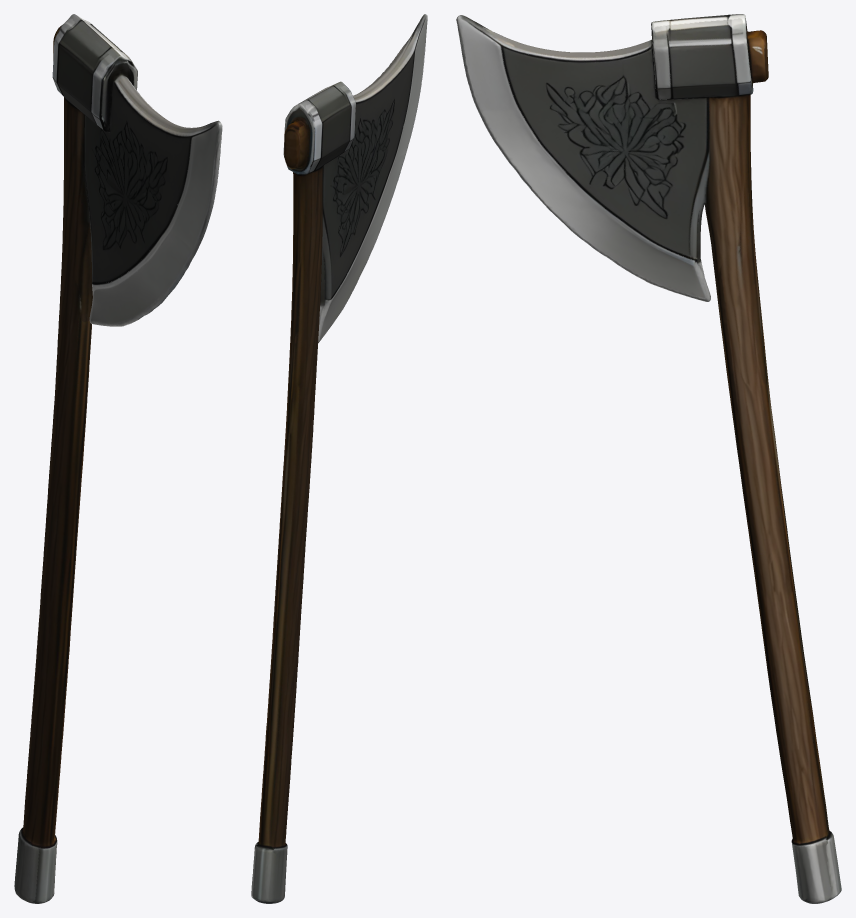
The model's file is _prop.glb.
3 renders of one model, left to right at view 1: azimuth 30°, elevation 25°; view 2: azimuth 150°, elevation 25°; view 3: azimuth 270°, elevation 25°, orthographic. The views are drawn at different scales.
Visible parts, largest first — view 1: tripo_node_942ad73b-d971-4531-b7e7-c09f63a6a15e; view 2: tripo_node_942ad73b-d971-4531-b7e7-c09f63a6a15e; view 3: tripo_node_942ad73b-d971-4531-b7e7-c09f63a6a15e.
Part boxes in pixels (x1,y1,x2,y2): tripo_node_942ad73b-d971-4531-b7e7-c09f63a6a15e: (14, 14, 222, 903); tripo_node_942ad73b-d971-4531-b7e7-c09f63a6a15e: (251, 14, 427, 903); tripo_node_942ad73b-d971-4531-b7e7-c09f63a6a15e: (456, 14, 841, 903).
Bounding box in the file's own units: 0.0461 × 1 × 0.3939.
Materials: 1 (1 with a texture image).
